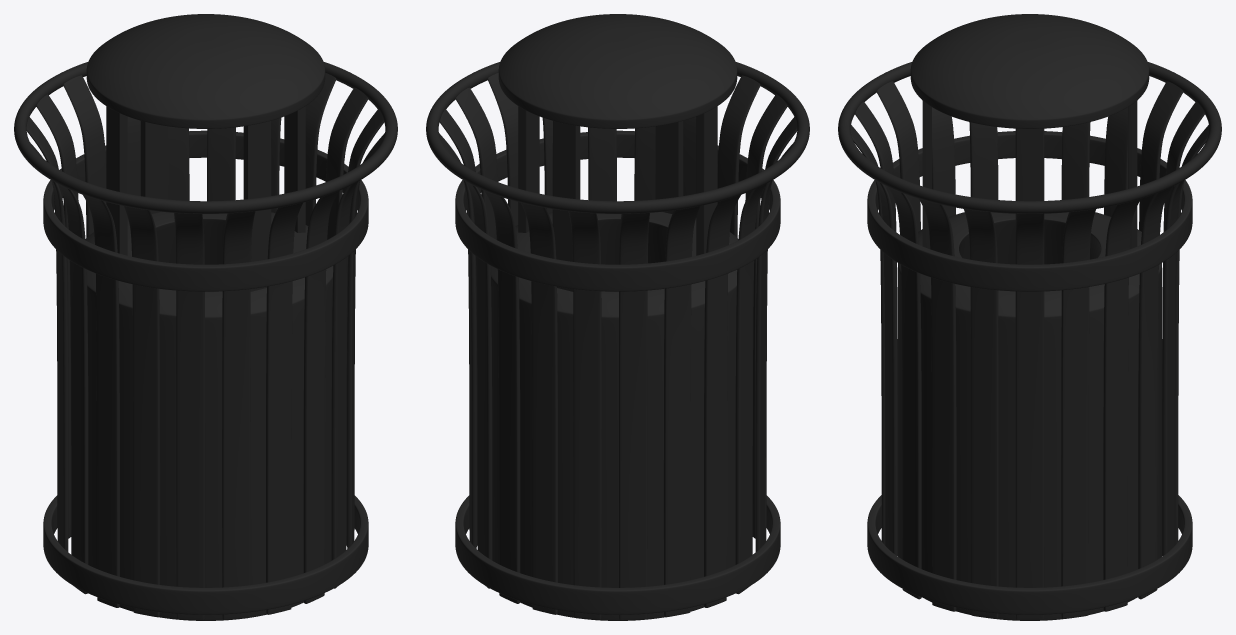
Rendered from Trashbin.glb.
The picture shows the model from 3 angles, left to right: view 1: azimuth 30°, elevation 25°; view 2: azimuth 150°, elevation 25°; view 3: azimuth 270°, elevation 25°; orthographic projection.
Visible parts, largest first — view 1: trash bin_0.002, trash bin, trash bin_0.001, trash bin_0.003; view 2: trash bin_0.002, trash bin, trash bin_0.001, trash bin_0.003; view 3: trash bin_0.003, trash bin_0.001, trash bin, trash bin_0.002.
Part boxes in pixels (box(x1,y1,x2,y2)): trash bin_0.002: box(26, 75, 284, 620); trash bin: box(85, 14, 367, 568); trash bin_0.001: box(43, 73, 368, 620); trash bin_0.003: box(14, 15, 397, 614); trash bin_0.002: box(463, 75, 797, 620); trash bin: box(456, 14, 738, 620); trash bin_0.001: box(439, 109, 780, 620); trash bin_0.003: box(426, 14, 809, 610); trash bin_0.003: box(838, 15, 1221, 619); trash bin_0.001: box(867, 131, 1192, 620); trash bin: box(898, 14, 1149, 620); trash bin_0.002: box(850, 81, 1209, 611).
Size of the model in its own units: 13.98 by 21.25 by 13.98.
Materials: 1 (1 with a texture image).
